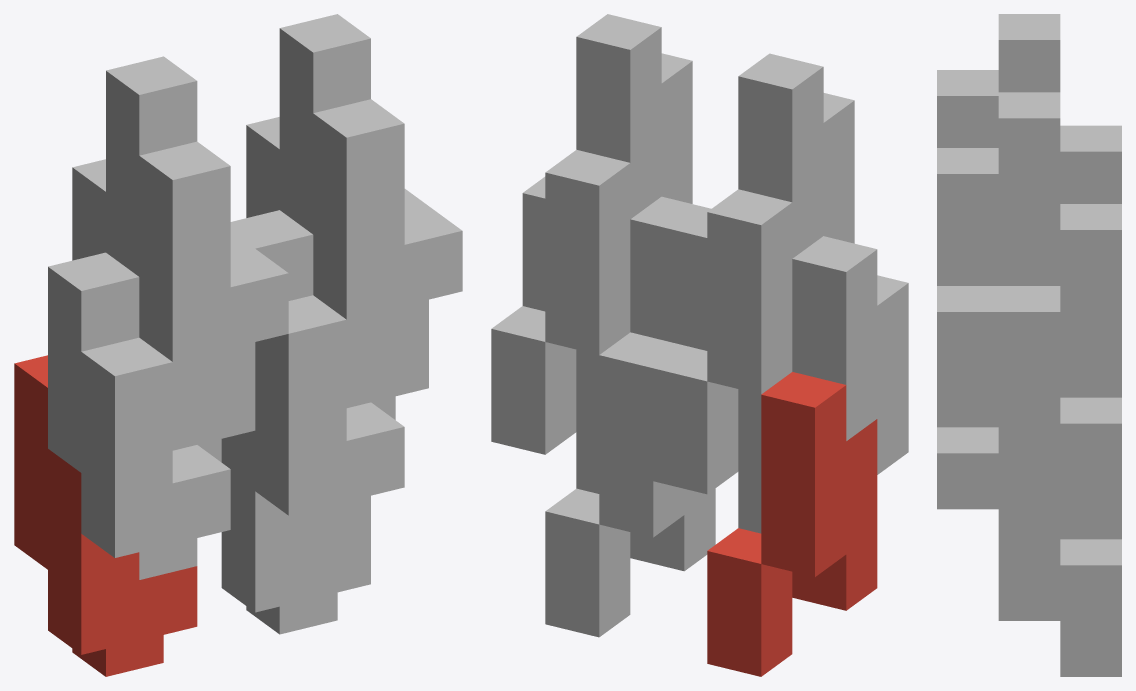
The model's file is tiling.obj.
The picture shows the model from 3 angles, left to right: view 1: azimuth 30°, elevation 25°; view 2: azimuth 150°, elevation 25°; view 3: azimuth 270°, elevation 25°; orthographic projection. The views are drawn at different scales.
Parts seen in each view (by area): view 1: copy_1_domain_8, copy_1_domain_4, copy_1_domain_2, copy_1_domain_6, copy_1_domain_1, copy_1_domain_5, copy_1_domain_3, copy_1_domain_7; view 2: copy_1_domain_1, copy_1_domain_3, copy_1_domain_7, copy_1_domain_5, copy_1_domain_2, copy_1_domain_4, copy_1_domain_8, copy_1_domain_6; view 3: copy_1_domain_8, copy_1_domain_7, copy_1_domain_6, copy_1_domain_5, copy_1_domain_4, copy_1_domain_3.
Boxes of the visible parts, bbox=[...] form: copy_1_domain_8: bbox=[279, 14, 462, 341]; copy_1_domain_4: bbox=[106, 56, 288, 383]; copy_1_domain_2: bbox=[48, 252, 230, 579]; copy_1_domain_6: bbox=[230, 210, 404, 537]; copy_1_domain_1: bbox=[14, 355, 197, 676]; copy_1_domain_5: bbox=[221, 430, 370, 634]; copy_1_domain_3: bbox=[72, 159, 255, 462]; copy_1_domain_7: bbox=[246, 117, 428, 419]; copy_1_domain_1: bbox=[707, 372, 877, 676]; copy_1_domain_3: bbox=[653, 189, 792, 494]; copy_1_domain_7: bbox=[491, 149, 630, 454]; copy_1_domain_5: bbox=[545, 332, 715, 637]; copy_1_domain_2: bbox=[738, 236, 908, 533]; copy_1_domain_4: bbox=[684, 53, 854, 350]; copy_1_domain_8: bbox=[522, 14, 692, 311]; copy_1_domain_6: bbox=[576, 196, 711, 493]; copy_1_domain_8: bbox=[937, 92, 1060, 423]; copy_1_domain_7: bbox=[998, 204, 1121, 535]; copy_1_domain_6: bbox=[937, 367, 1060, 565]; copy_1_domain_5: bbox=[998, 535, 1121, 676]; copy_1_domain_4: bbox=[937, 14, 1060, 147]; copy_1_domain_3: bbox=[1060, 125, 1121, 203].
Bounding box in the file's own units: 6 × 10 × 3.
